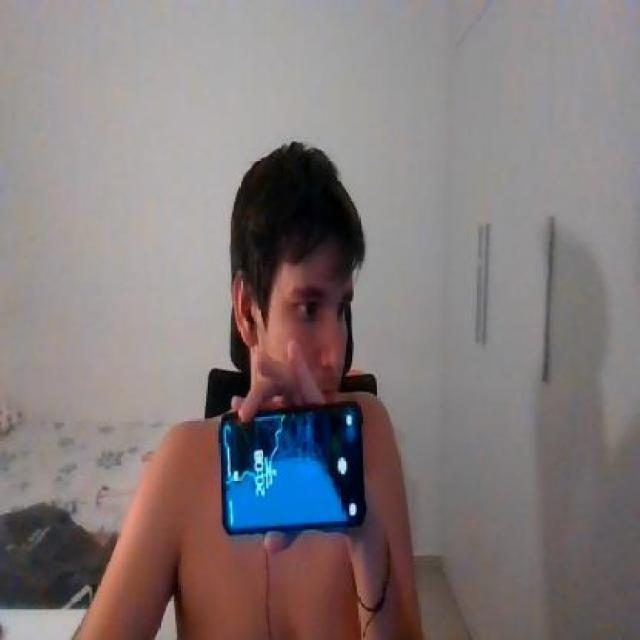phone: (218, 405, 369, 537)
